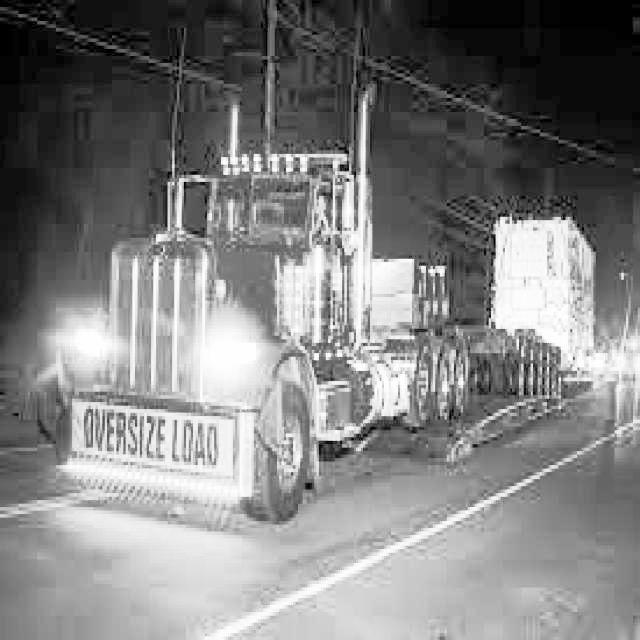Truck: (47, 81, 592, 525)
